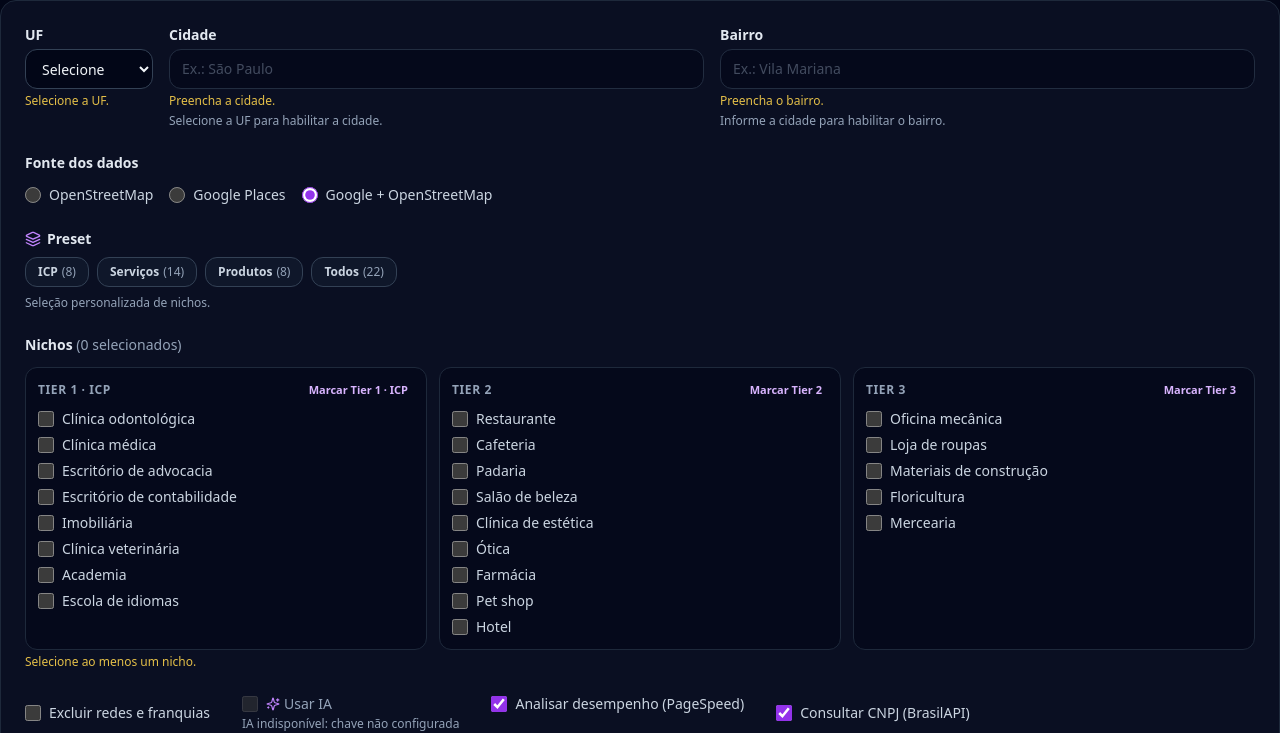
Test: MiningForm — cascata UF → Cidade → Bairro › trocar a UF limpa cidade e bairro e desabilita os dependentes
Select "SP" in the dropdown labelled "UF". click: [89, 69]
box: [25,49,153,89]
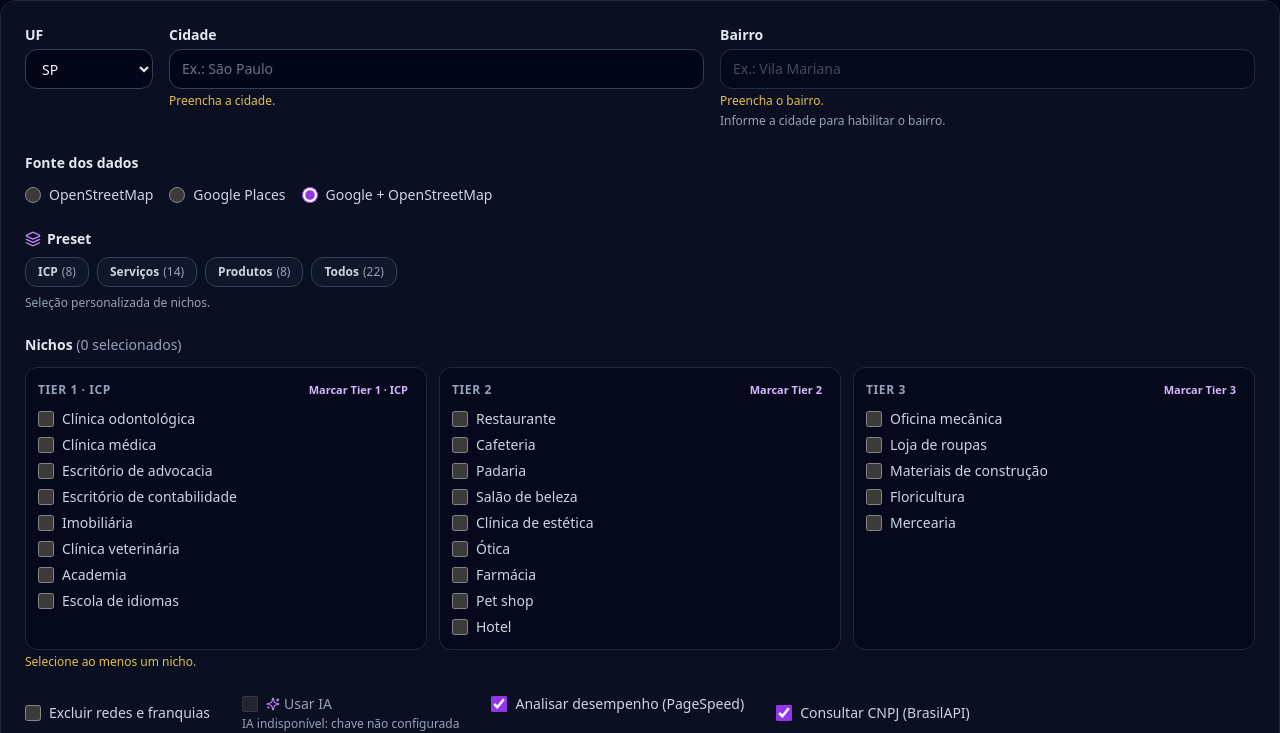
Type "Santos" into the dropdown labelled "Cidade". click: [436, 69]
box: [169,49,704,89]
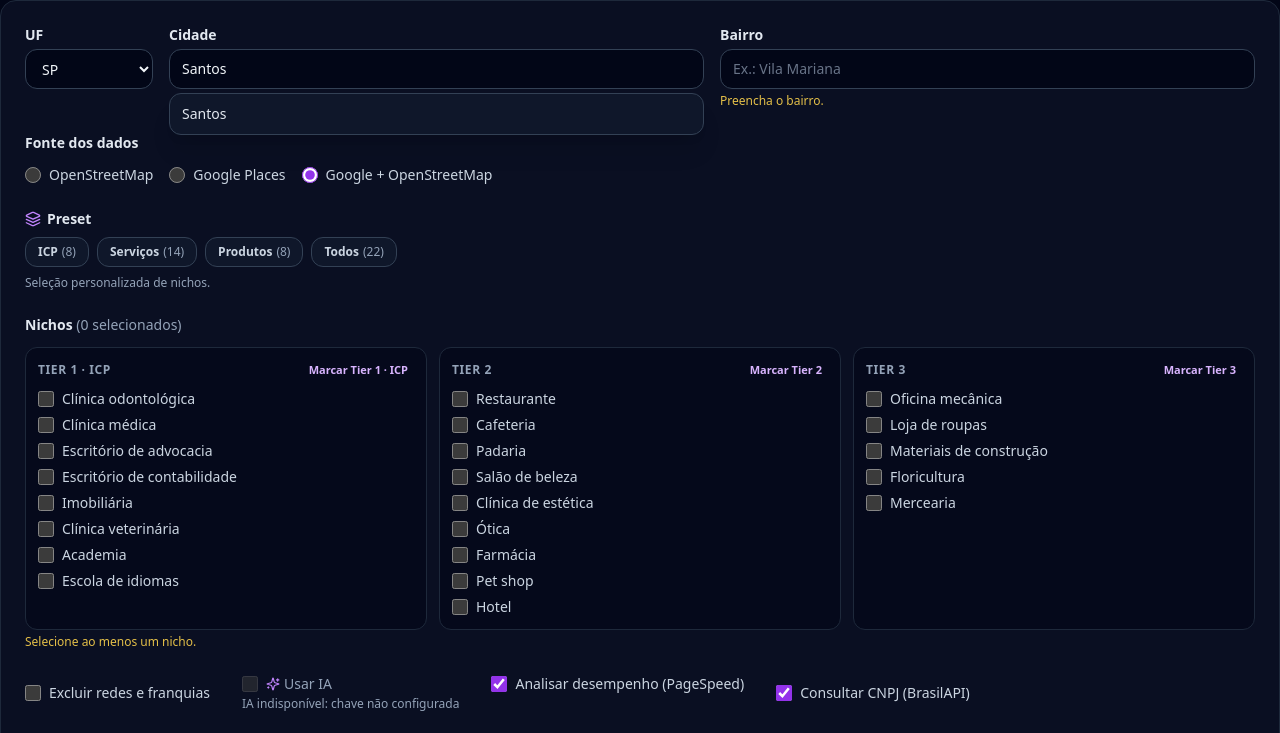
Type "Gonzaga" into the dropdown labelled "Bairro". click: [988, 69]
box: [720,49,1255,89]
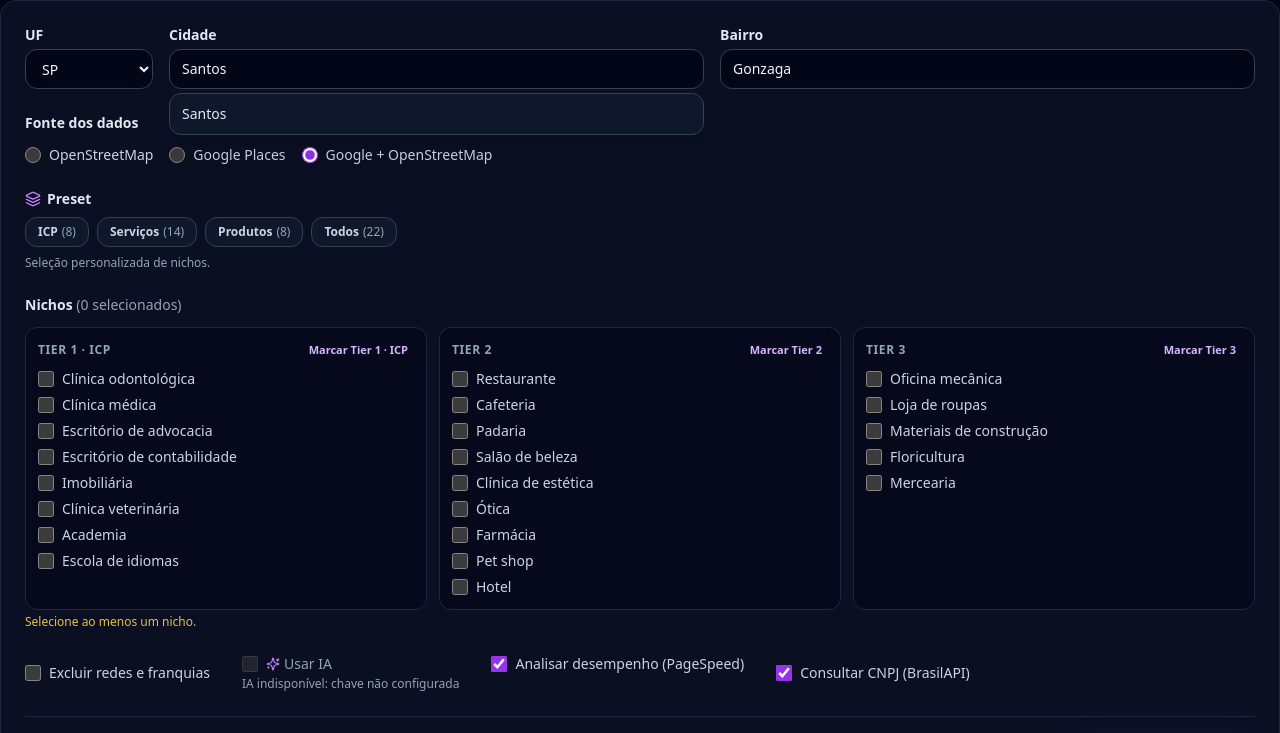
Select "RJ" in the dropdown labelled "UF". click: [89, 69]
box: [25,49,153,89]
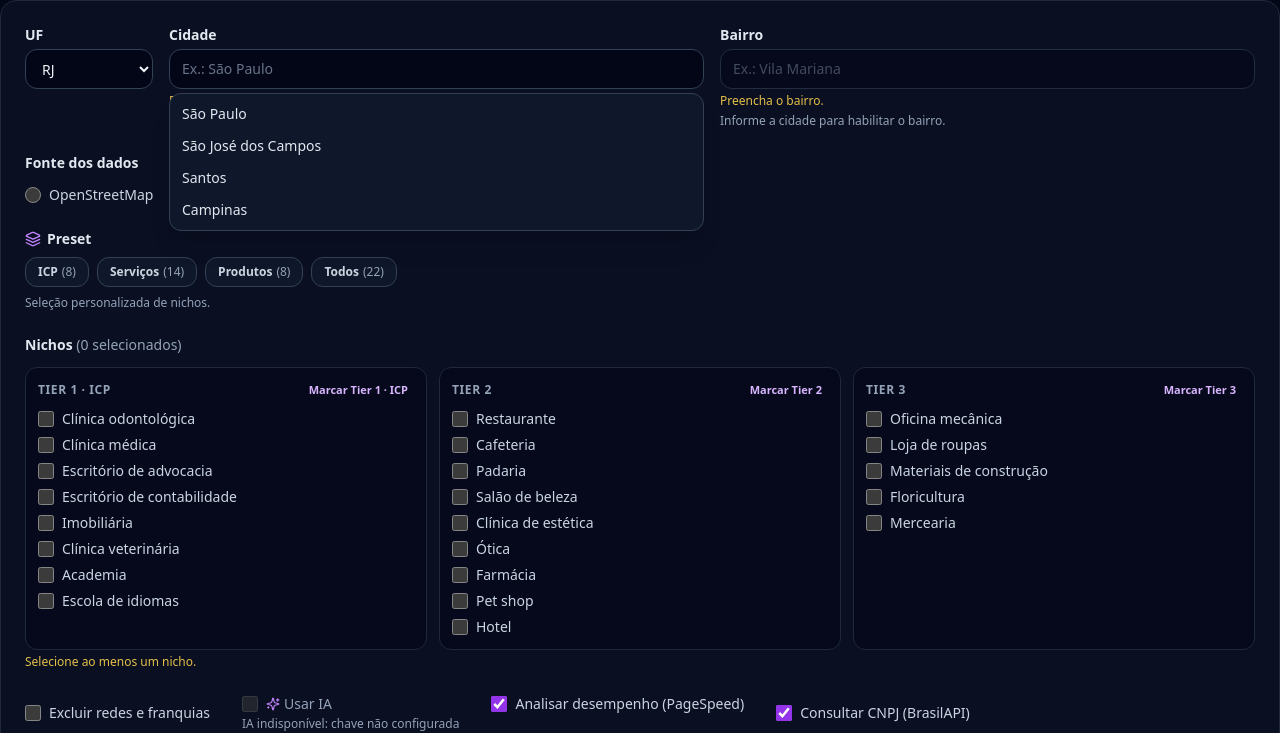
Expected: the dropdown labelled "Cidade" is empty, [169,49,704,89]
Expected: the dropdown labelled "Bairro" is empty, [720,49,1255,89]
Expected: the dropdown labelled "Bairro" is disabled, [720,49,1255,89]
